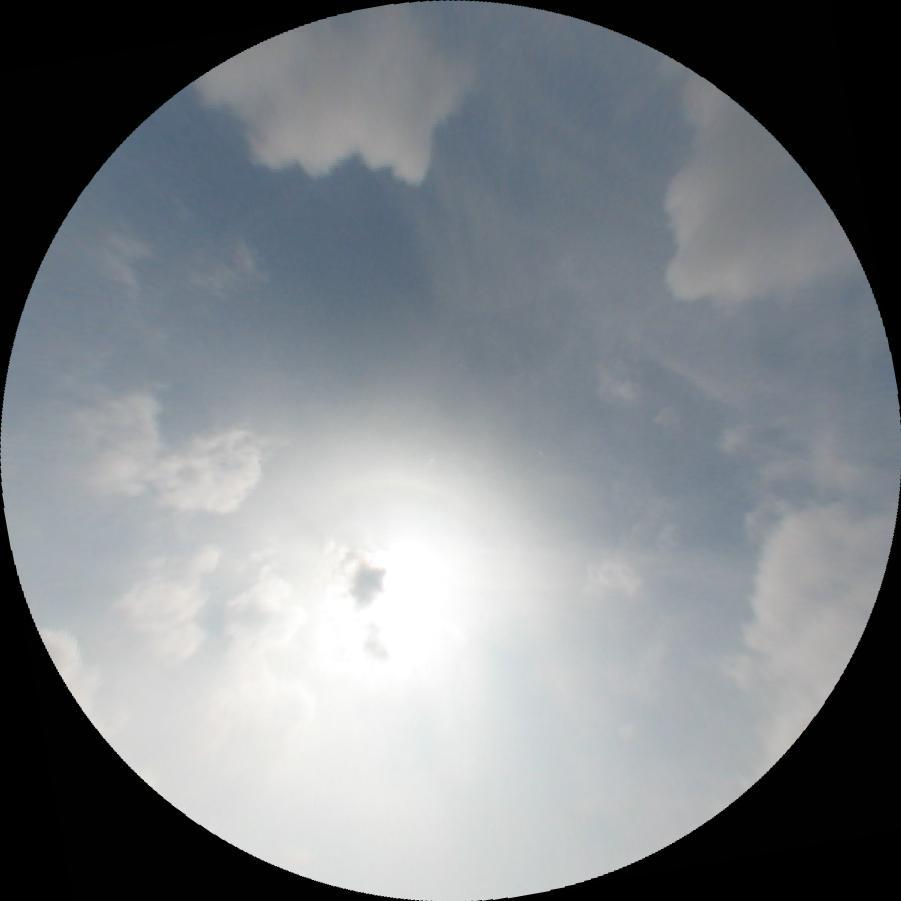sun: (301, 525, 481, 707)
